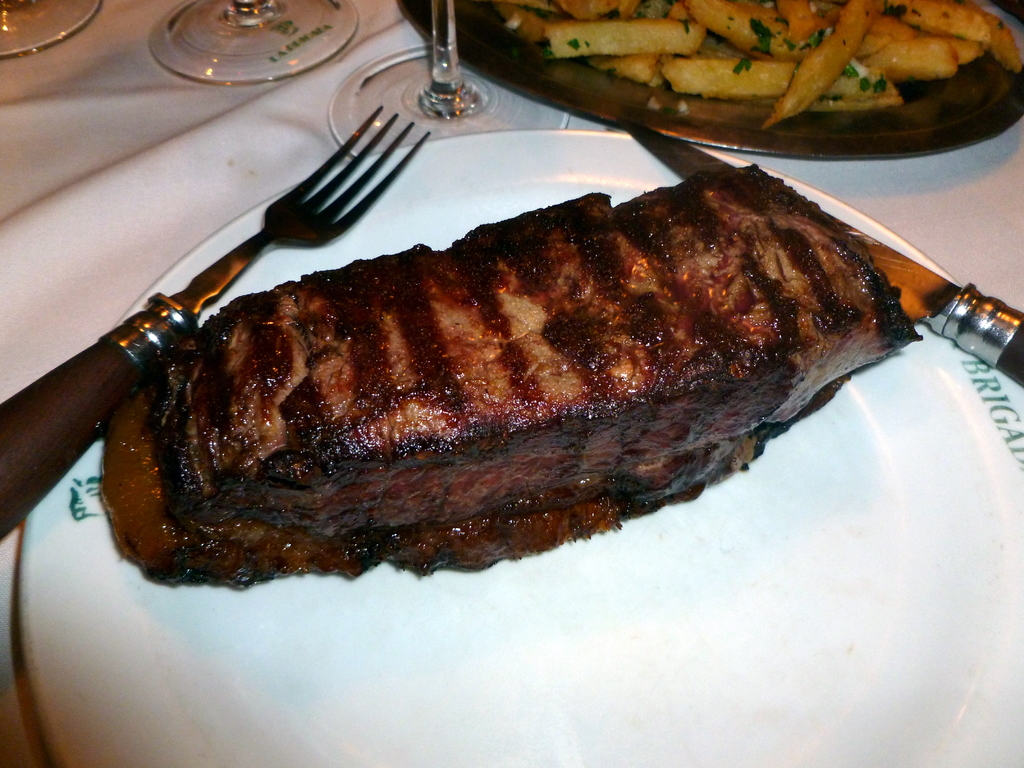French fries: (480, 13, 1024, 126)
